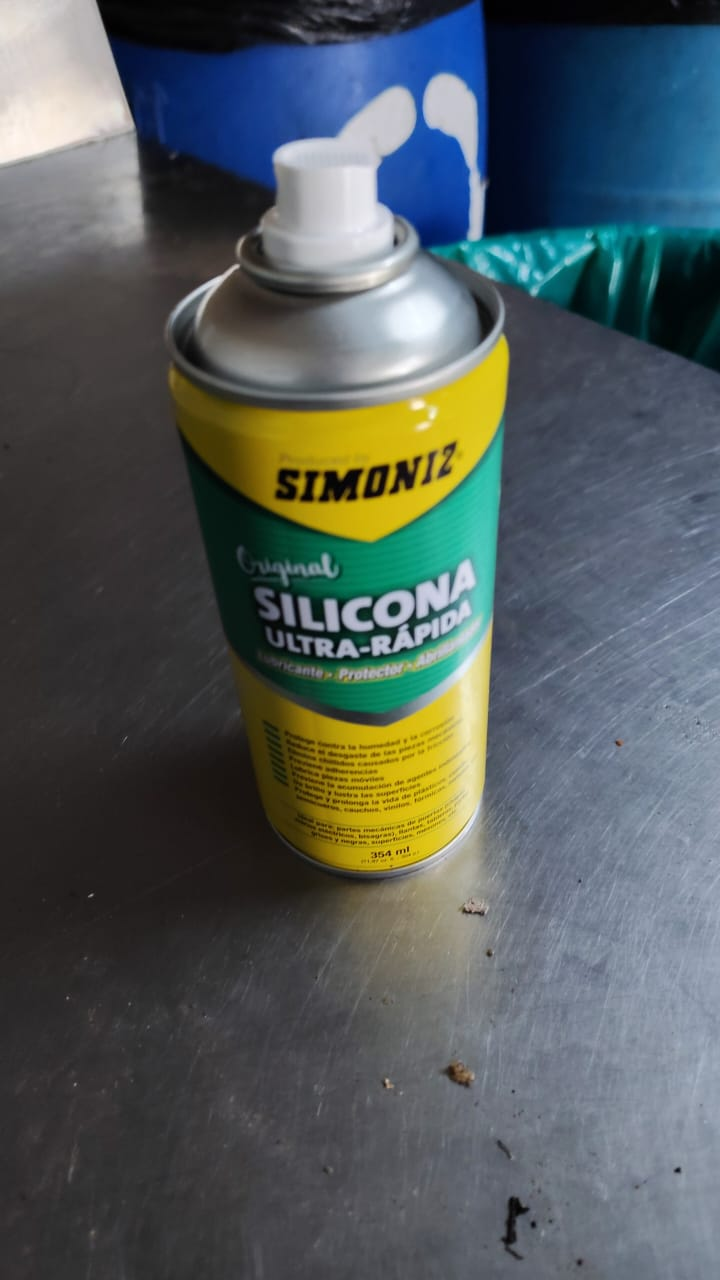Metal: (164, 136, 507, 877)
